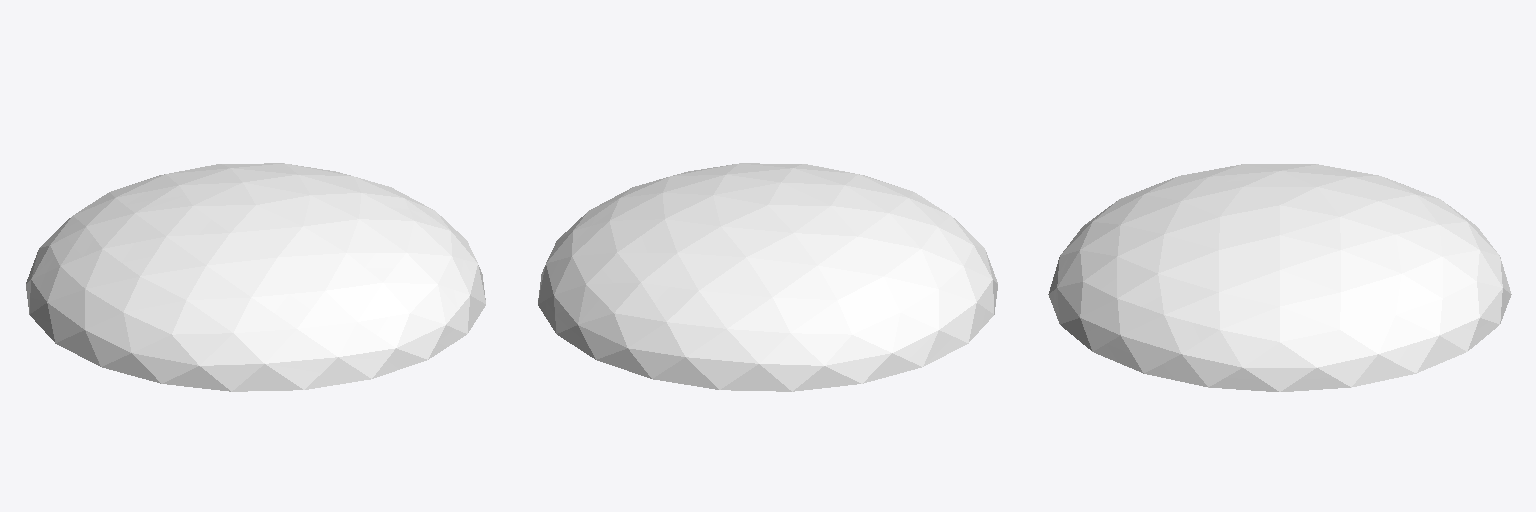
3 views of the same model, side by side, from view 1: azimuth 30°, elevation 25°; view 2: azimuth 150°, elevation 25°; view 3: azimuth 270°, elevation 25° (orthographic).
Visible parts, largest first — view 1: body; view 2: body; view 3: body.
Boxes of the visible parts, <box> form: body: <box>26,163,485,391</box>; body: <box>538,163,997,391</box>; body: <box>1048,164,1511,391</box>.
Size of the model in its own units: 4705 by 1138 by 4705.